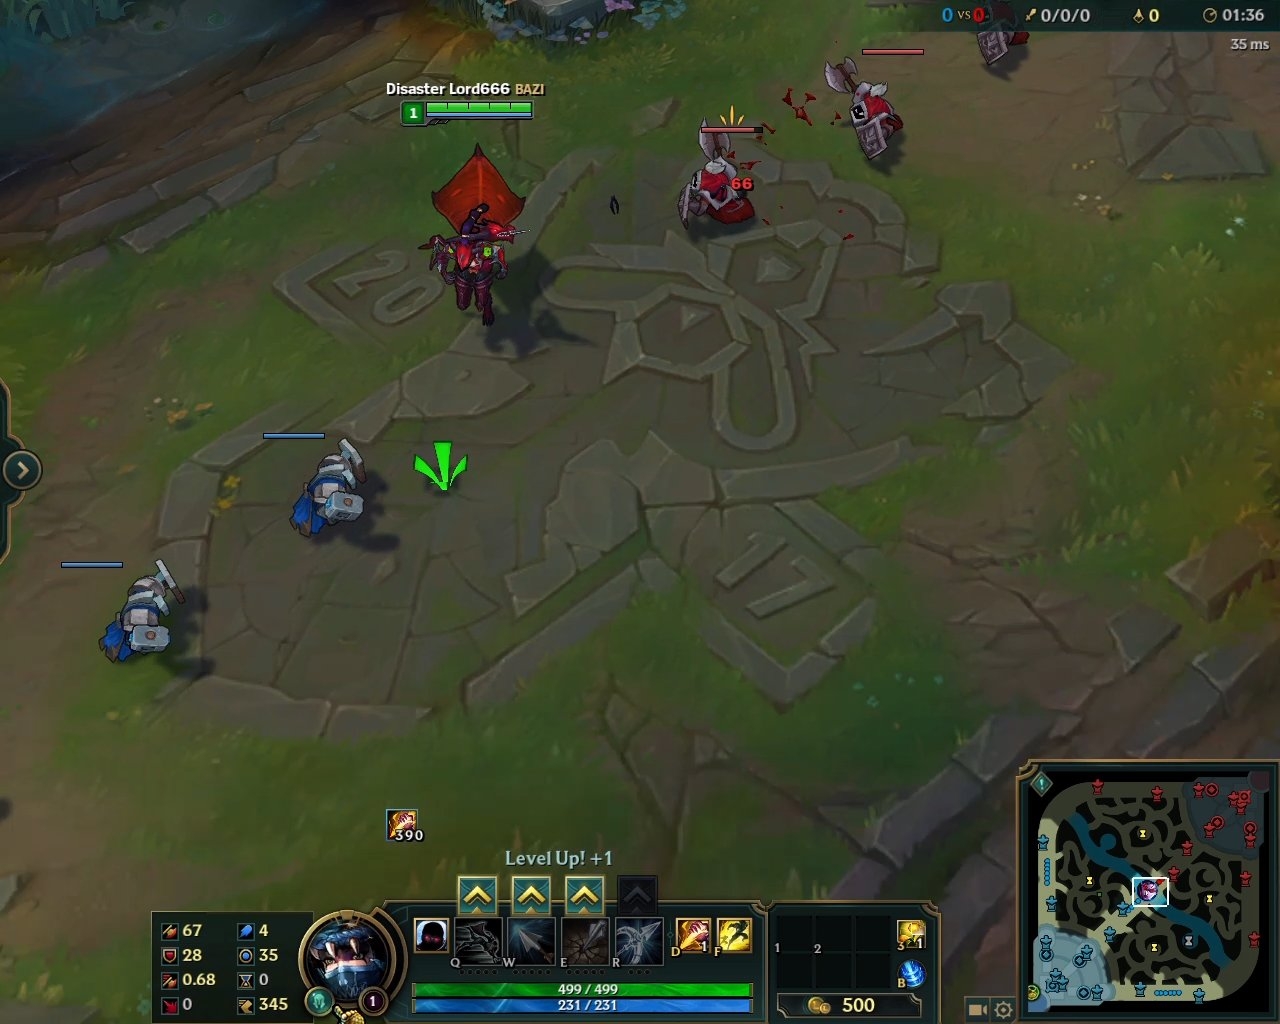EnemyMinion: (821, 47, 923, 163), (675, 118, 762, 233)
Vayne: (415, 141, 536, 333)
